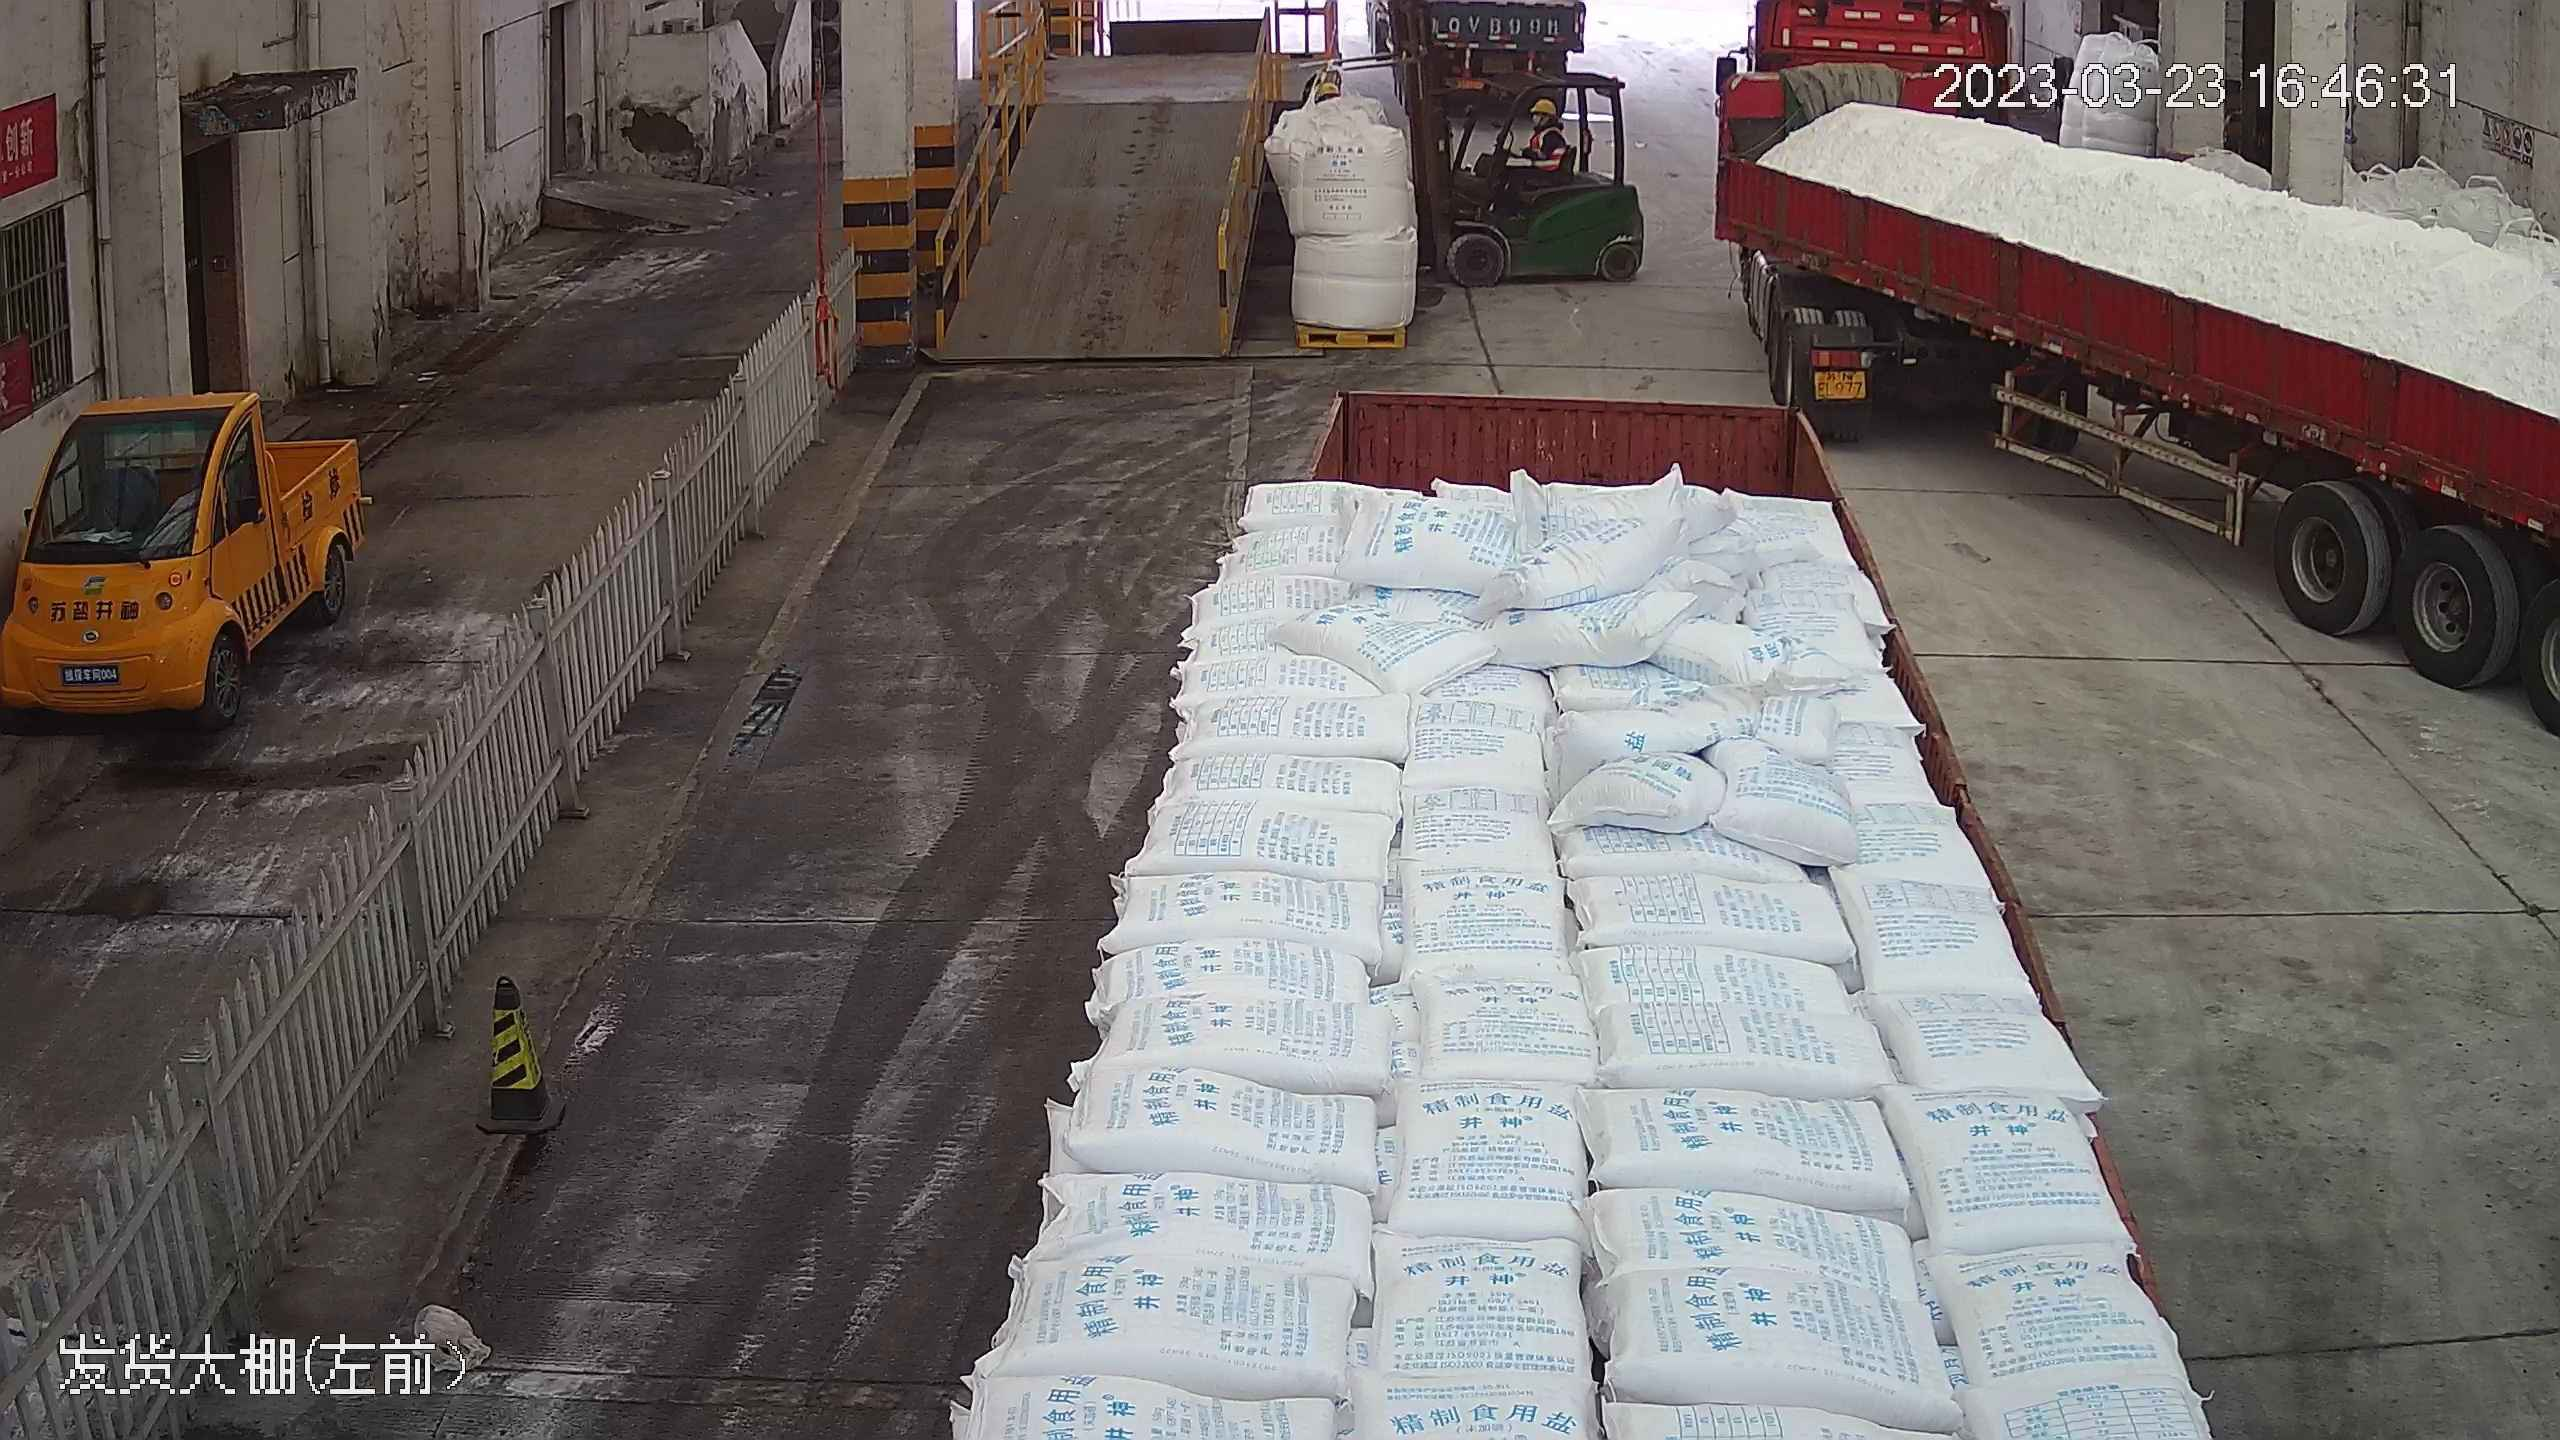head: (1524, 97, 1562, 141)
helmet: (1532, 97, 1555, 116)
people: (1497, 95, 1567, 195)
truck: (1049, 359, 2180, 1432), (1711, 1, 2560, 790)
